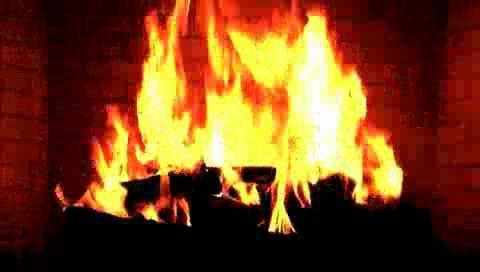fire: (57, 0, 480, 231)
